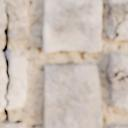brick: (42, 63, 100, 127), (43, 0, 100, 51), (107, 0, 127, 38), (108, 79, 127, 110), (106, 52, 127, 78), (118, 14, 127, 39), (0, 124, 25, 127), (109, 124, 127, 127)
broken_brick: (8, 51, 28, 110), (0, 0, 28, 41), (0, 54, 5, 112)
crack: (0, 2, 22, 125), (111, 6, 127, 41), (108, 66, 127, 83)
